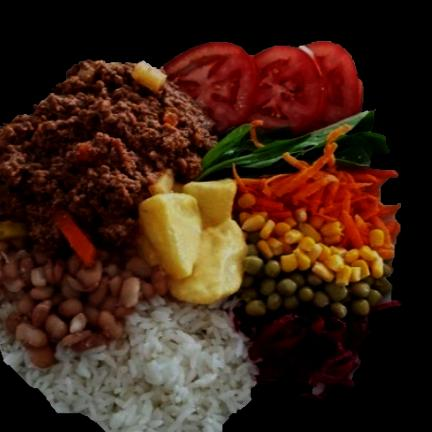beans: (0, 227, 165, 368)
beet: (234, 304, 370, 399)
carrot: (228, 130, 400, 260)
corn: (241, 213, 384, 285)
meat: (0, 60, 217, 254)
potato: (140, 180, 247, 303)
rice: (0, 294, 257, 432)
tomato: (164, 41, 362, 133)
